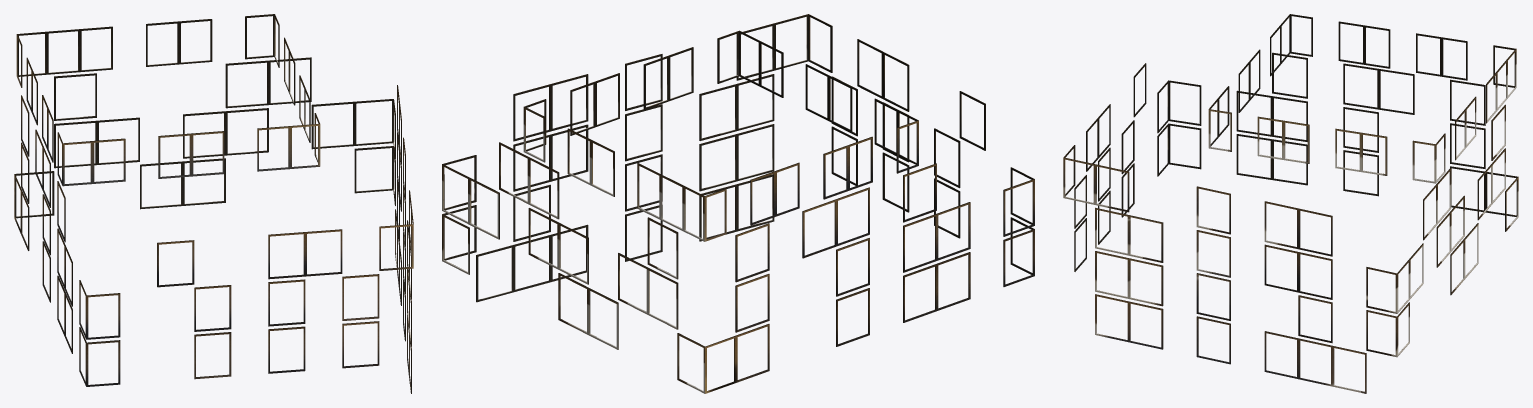
The model's file is Building_20_Frame.fbx.
3 views of the same model, side by side, from view 1: azimuth 30°, elevation 25°; view 2: azimuth 150°, elevation 25°; view 3: azimuth 270°, elevation 25° (orthographic). The views are drawn at different scales.
Parts seen in each view (by area): view 1: Building_20_Frame; view 2: Building_20_Frame; view 3: Building_20_Frame.
Boxes of the visible parts, x1,y1,x2,y2 form: Building_20_Frame: (14, 14, 413, 393); Building_20_Frame: (442, 14, 1034, 393); Building_20_Frame: (1063, 14, 1518, 393).
Size of the model in its own units: 28.76 by 14.72 by 28.61.
Materials: 1 (1 with a texture image).
